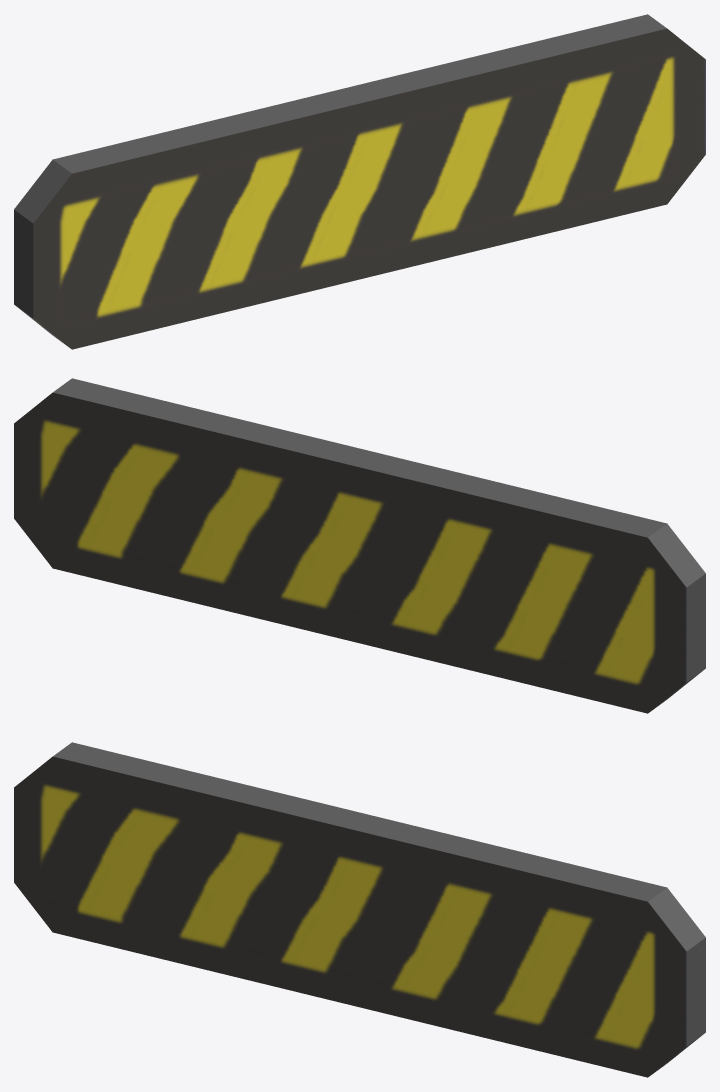
Rendered from Bar.fbx.
3 renders of one model, top to bottom at view 1: azimuth 30°, elevation 25°; view 2: azimuth 150°, elevation 25°; view 3: azimuth 330°, elevation 25°, orthographic.
Parts seen in each view (by area): view 1: Bar; view 2: Bar; view 3: Bar.
Part boxes in pixels (x1,y1,x2,y2): Bar: (14, 14, 705, 349); Bar: (14, 378, 705, 713); Bar: (14, 742, 705, 1077).
Bounding box in the file's own units: 2 × 0.5 × 0.1.
